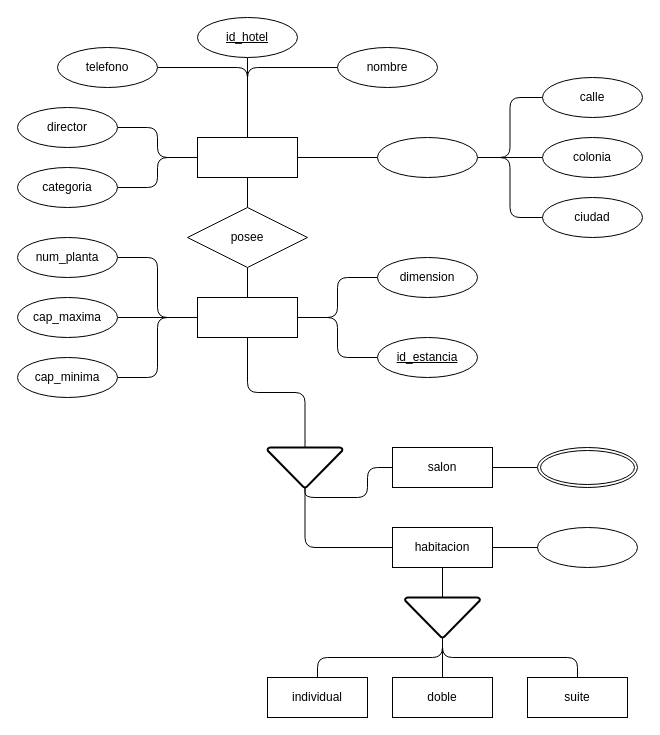
Some shapes in this 660 by 735 pixel diagram are drawn without their labels. The shapes that lost their labels are listed below. From the top down, each one's centre as x and y in pixels, then its label:
the point at 247,157: hotel
the point at 427,157: direccion
the point at 247,317: estancia
the point at 587,467: equipamento
the point at 587,547: tamanio_cama
